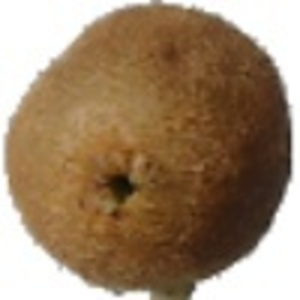kiwi: (2, 1, 294, 300)
